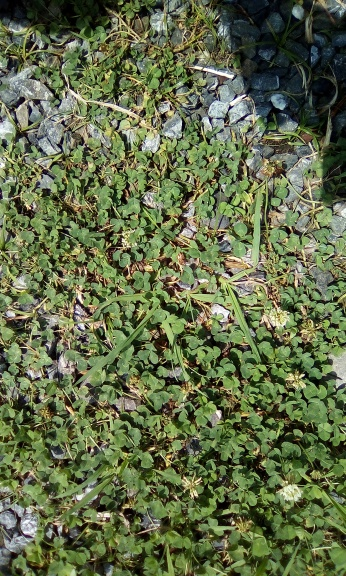4leaf: (131, 271, 151, 291)
